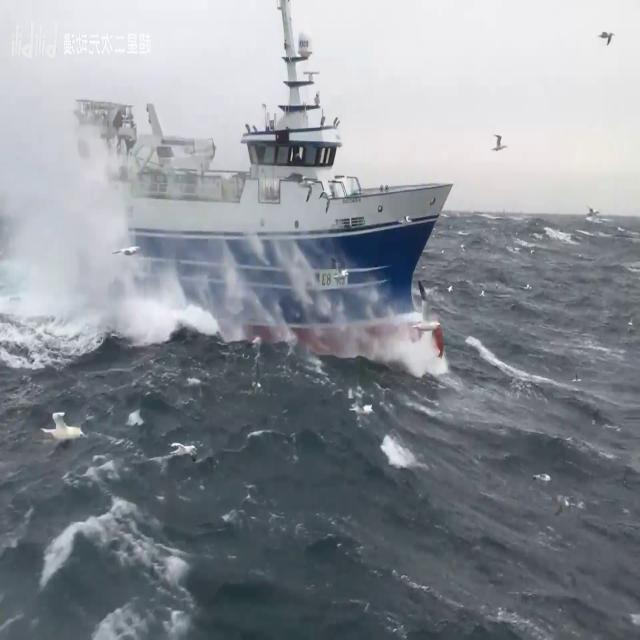houseboat: (70, 0, 459, 391)
